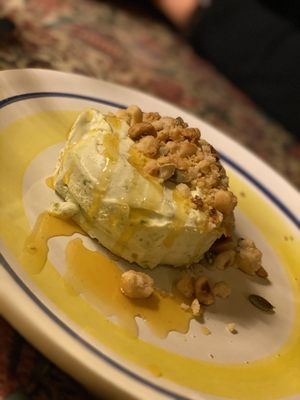curry: (1, 2, 299, 379)
